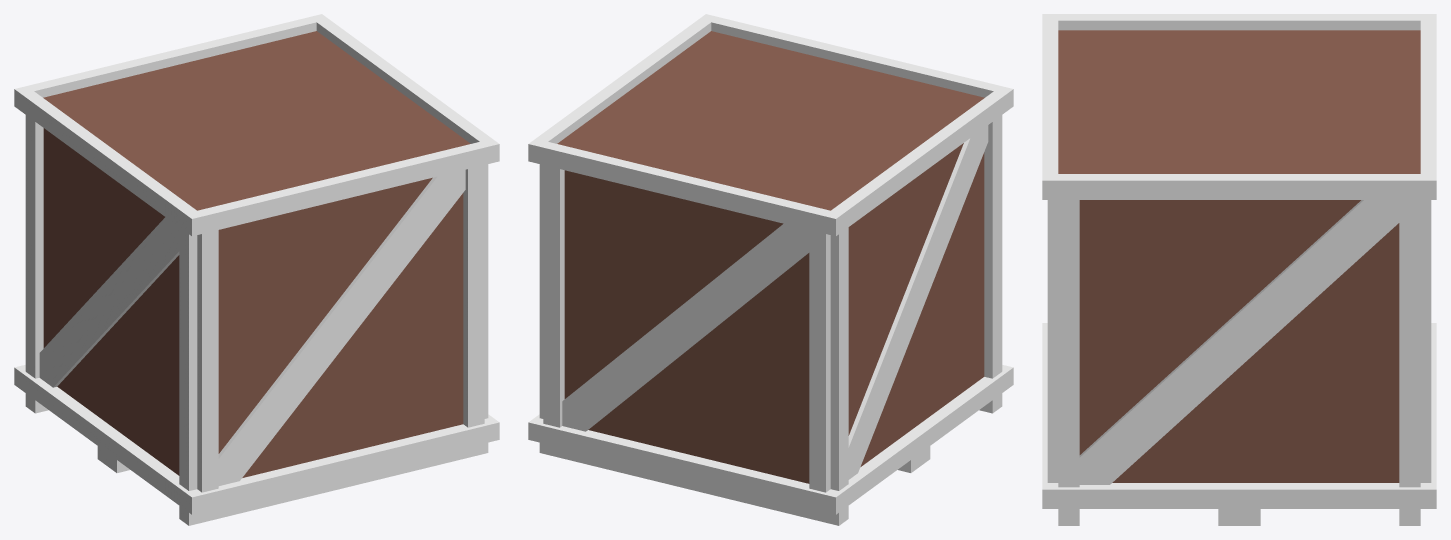
The model's file is crate_small.glb.
The picture shows the model from 3 angles, left to right: view 1: azimuth 30°, elevation 25°; view 2: azimuth 150°, elevation 25°; view 3: azimuth 270°, elevation 25°; orthographic projection. The views are drawn at different scales.
Parts seen in each view (by area): view 1: CrateSmall-occ; view 2: CrateSmall-occ; view 3: CrateSmall-occ.
Part boxes in pixels (box(x1,y1,x2,y2)): CrateSmall-occ: box(14, 14, 499, 525); CrateSmall-occ: box(528, 14, 1013, 525); CrateSmall-occ: box(1042, 14, 1436, 525).
Size of what is drawn, in the model's own units: 1.16 by 1.12 by 1.16.
